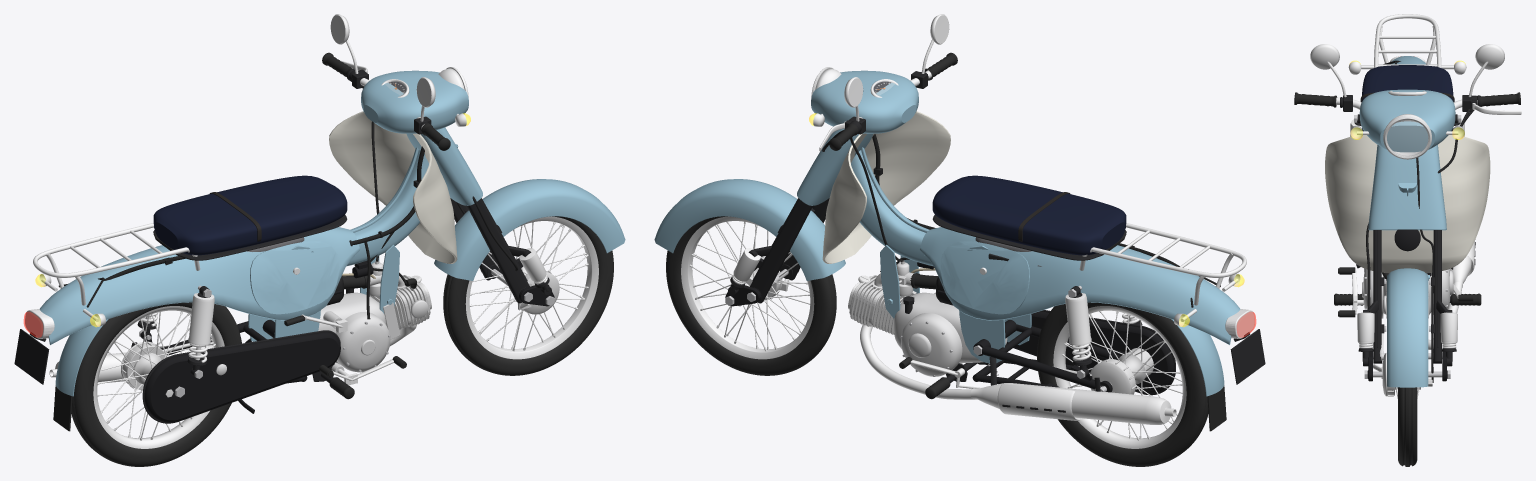
File: bike_step_through.glb
The picture shows the model from 3 angles, left to right: view 1: azimuth 30°, elevation 25°; view 2: azimuth 150°, elevation 25°; view 3: azimuth 270°, elevation 25°; orthographic projection. The views are drawn at different scales.
Visible parts, largest first — view 1: frame_body__rear_body, frame_body__seat, transmission__chain_case, frame_body__leg_shield, frame_body__front_mudguard, wheels__rear_wheel__tyre, wheels__front_wheel__tyre, frame_body__side_covers__left, frame_body__handlebar_cowl, wheels__front_wheel__rim, frame_body__frame__backbone, electrical__generator__cover (+20 smaller); view 2: frame_body__rear_body, frame_body__seat, frame_body__leg_shield, frame_body__front_mudguard, wheels__rear_wheel__tyre, wheels__front_wheel__tyre, frame_body__side_covers__right, frame_body__handlebar_cowl, transmission__chain_case, powertrain__exhaust__silencer, frame_body__frame__brackets, frame_body__frame__backbone (+25 smaller); view 3: frame_body__leg_shield, chassis__front_fork__top_cover, frame_body__front_mudguard, frame_body__handlebar_cowl, chassis__front_fork__legs, frame_body__seat, wheels__front_wheel__tyre, frame_body__carrier, chassis__handlebar__mirrors, electrical__headlight__lens, chassis__front_fork__shock_covers, chassis__handlebar__grips (+17 smaller).
Boxes of the visible parts, x1,y1,x2,y2 form: frame_body__rear_body: (39, 227, 359, 344); frame_body__seat: (153, 175, 347, 255); transmission__chain_case: (142, 330, 340, 423); frame_body__leg_shield: (329, 111, 457, 263); frame_body__front_mudguard: (434, 179, 625, 280); wheels__rear_wheel__tyre: (71, 302, 241, 466); wheels__front_wheel__tyre: (443, 216, 613, 375); frame_body__side_covers__left: (250, 241, 339, 314); frame_body__handlebar_cowl: (361, 70, 468, 133); wheels__front_wheel__rim: (465, 216, 598, 359); frame_body__frame__backbone: (347, 145, 458, 265); electrical__generator__cover: (335, 312, 390, 372); frame_body__rear_body: (920, 227, 1240, 344); frame_body__seat: (932, 175, 1126, 255); frame_body__leg_shield: (822, 111, 950, 263); frame_body__front_mudguard: (654, 179, 845, 280); wheels__rear_wheel__tyre: (1037, 302, 1208, 466); wheels__front_wheel__tyre: (666, 216, 836, 375); frame_body__side_covers__right: (940, 241, 1029, 314); frame_body__handlebar_cowl: (811, 70, 918, 133); transmission__chain_case: (1006, 310, 1175, 395); powertrain__exhaust__silencer: (970, 383, 1176, 424); frame_body__frame__brackets: (880, 244, 1031, 363); frame_body__frame__backbone: (851, 148, 932, 265); frame_body__leg_shield: (1325, 135, 1490, 273); chassis__front_fork__top_cover: (1368, 144, 1446, 230); frame_body__front_mudguard: (1387, 268, 1428, 387); frame_body__handlebar_cowl: (1359, 89, 1455, 152); chassis__front_fork__legs: (1368, 230, 1447, 363); frame_body__seat: (1361, 65, 1453, 131); wheels__front_wheel__tyre: (1398, 387, 1417, 466); frame_body__carrier: (1374, 14, 1441, 67); chassis__handlebar__mirrors: (1310, 44, 1504, 69); electrical__headlight__lens: (1387, 120, 1427, 155); chassis__front_fork__shock_covers: (1357, 312, 1457, 342); chassis__handlebar__grips: (1294, 92, 1520, 107).
Bounding box in the file's own units: 194 × 113 × 67.19.
